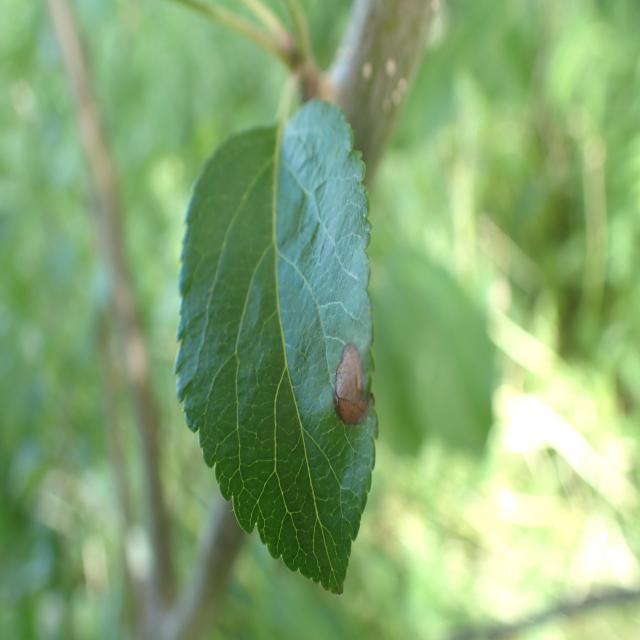Black Rot: (322, 322, 384, 478)
